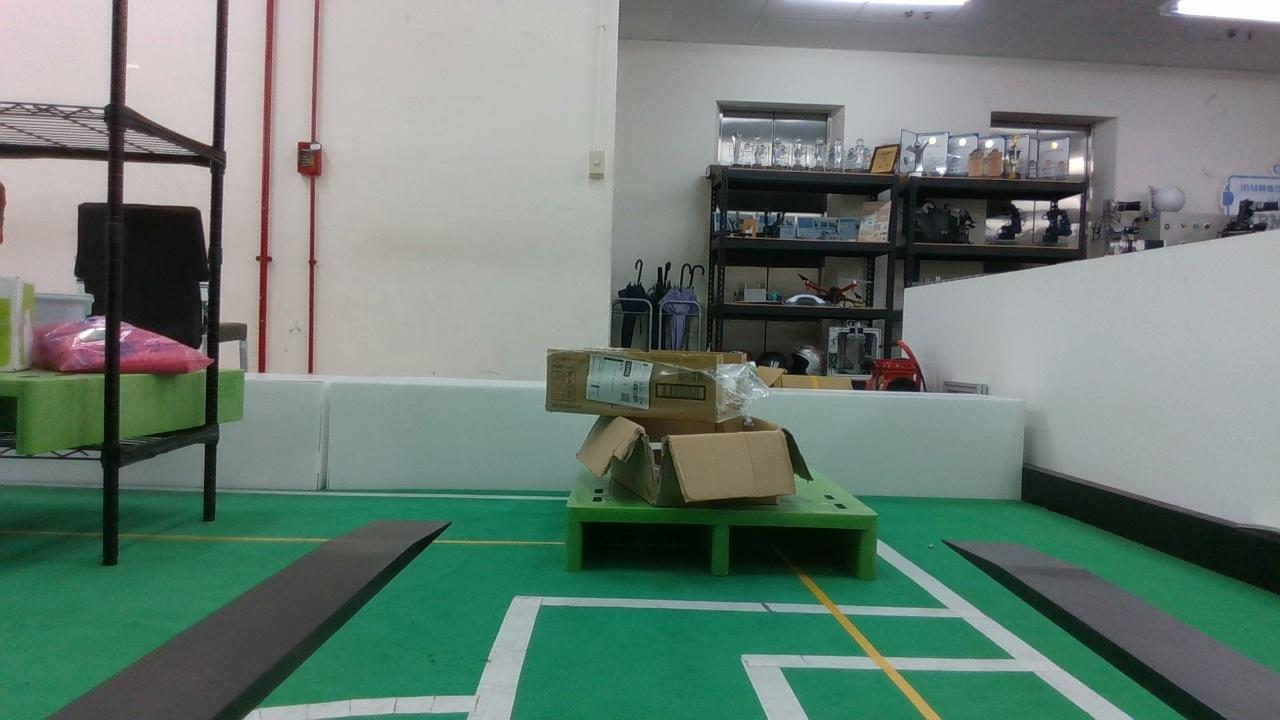Pallet: (559, 501, 883, 579)
